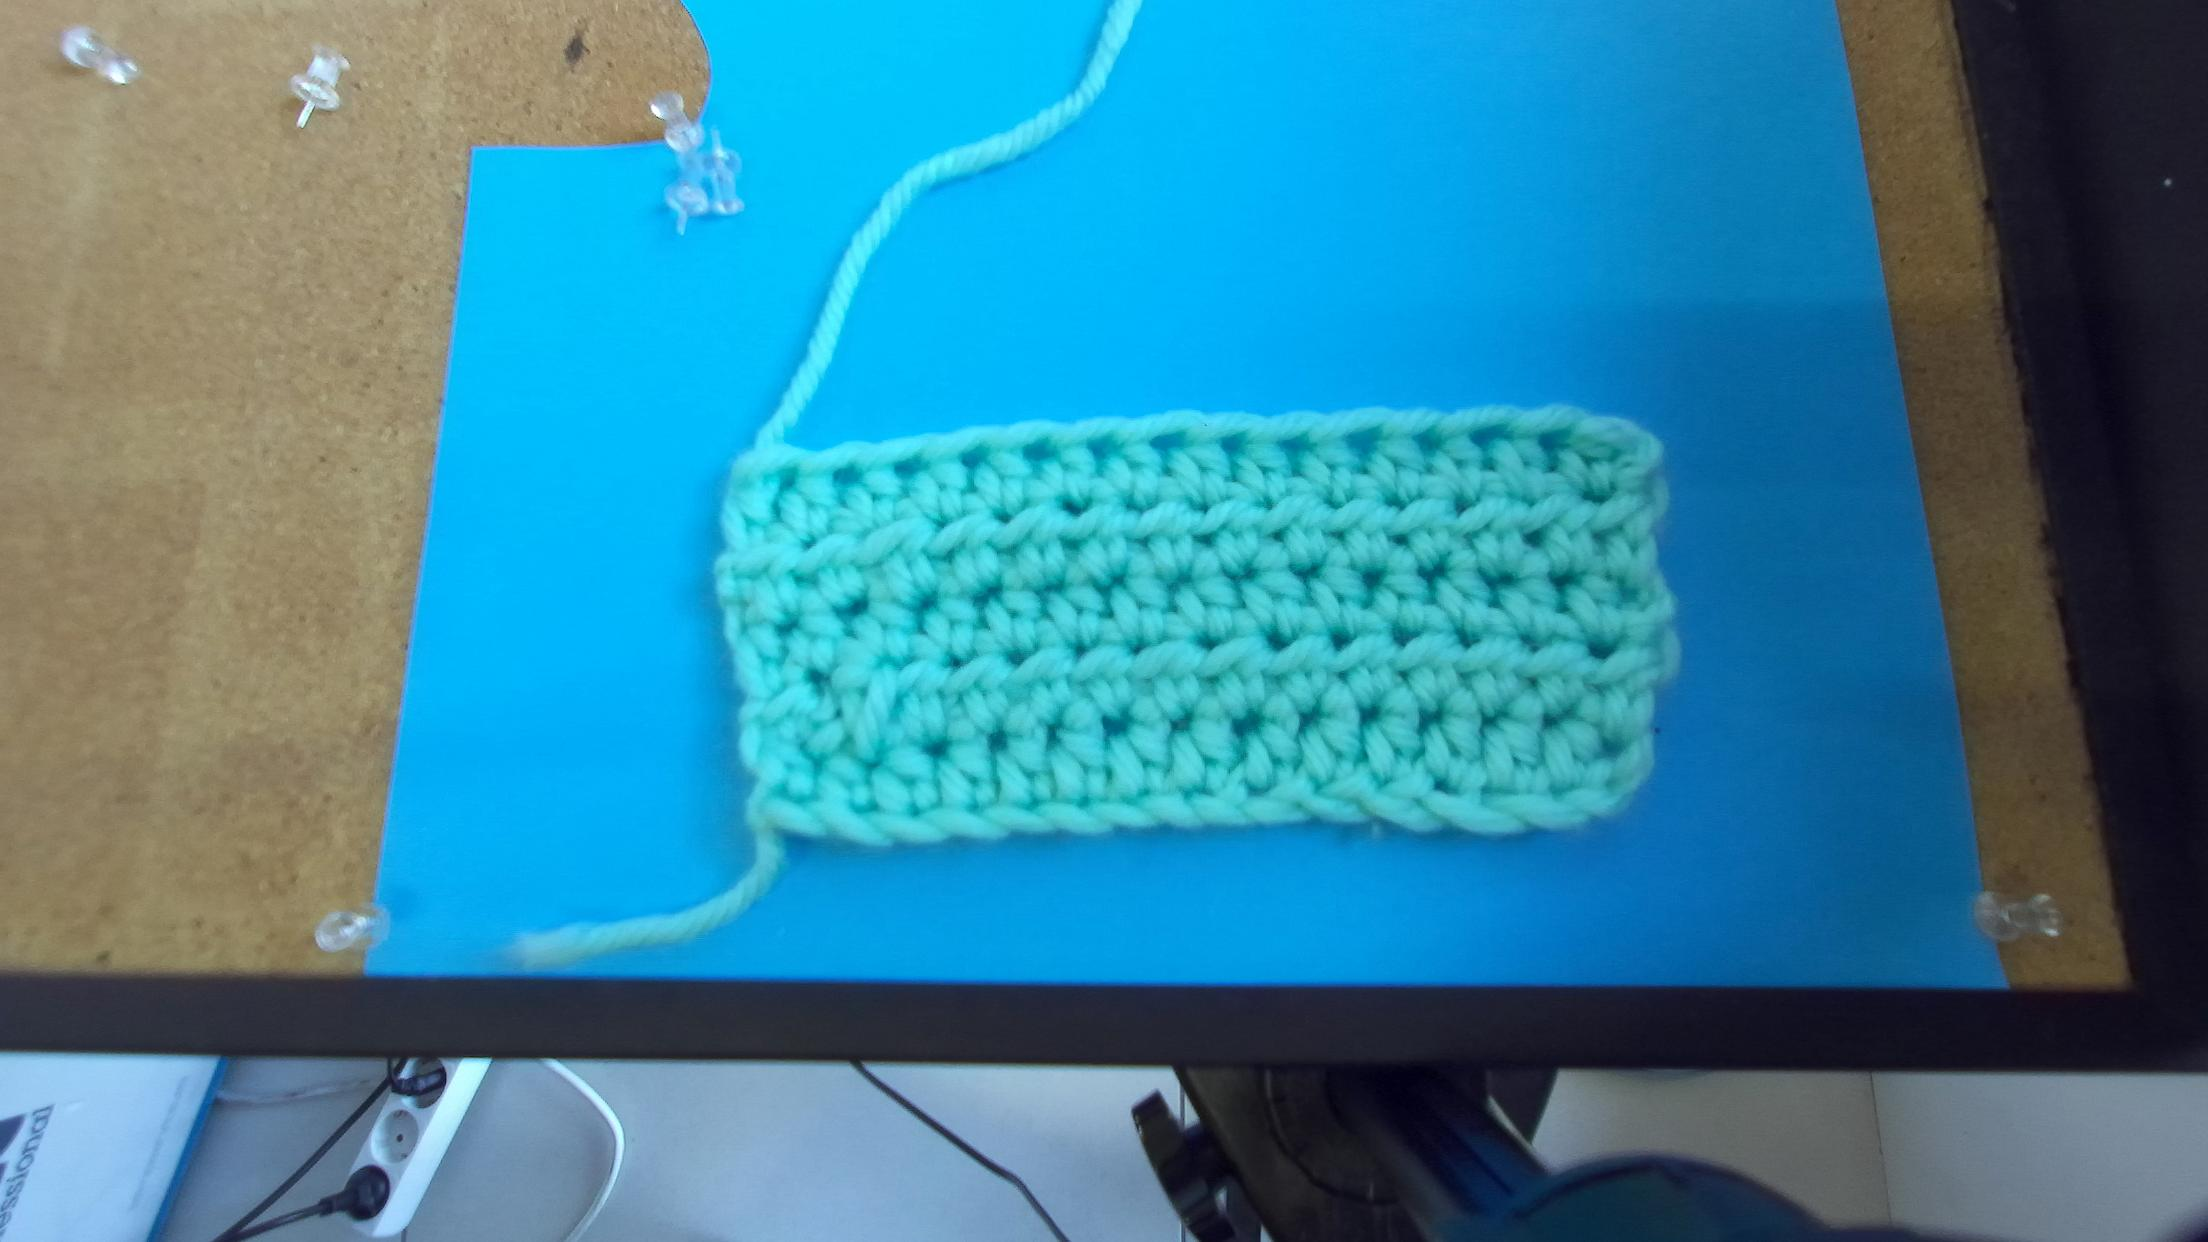hole: (1341, 425, 1380, 456), (1083, 429, 1119, 463), (1468, 422, 1509, 450), (892, 450, 928, 479), (1536, 426, 1573, 452), (1277, 428, 1313, 452), (958, 441, 990, 469), (1022, 435, 1055, 461), (1148, 429, 1186, 450), (1216, 429, 1248, 453), (1410, 426, 1438, 453), (775, 467, 798, 491), (834, 463, 861, 482)
swatch: (716, 406, 1683, 852)
